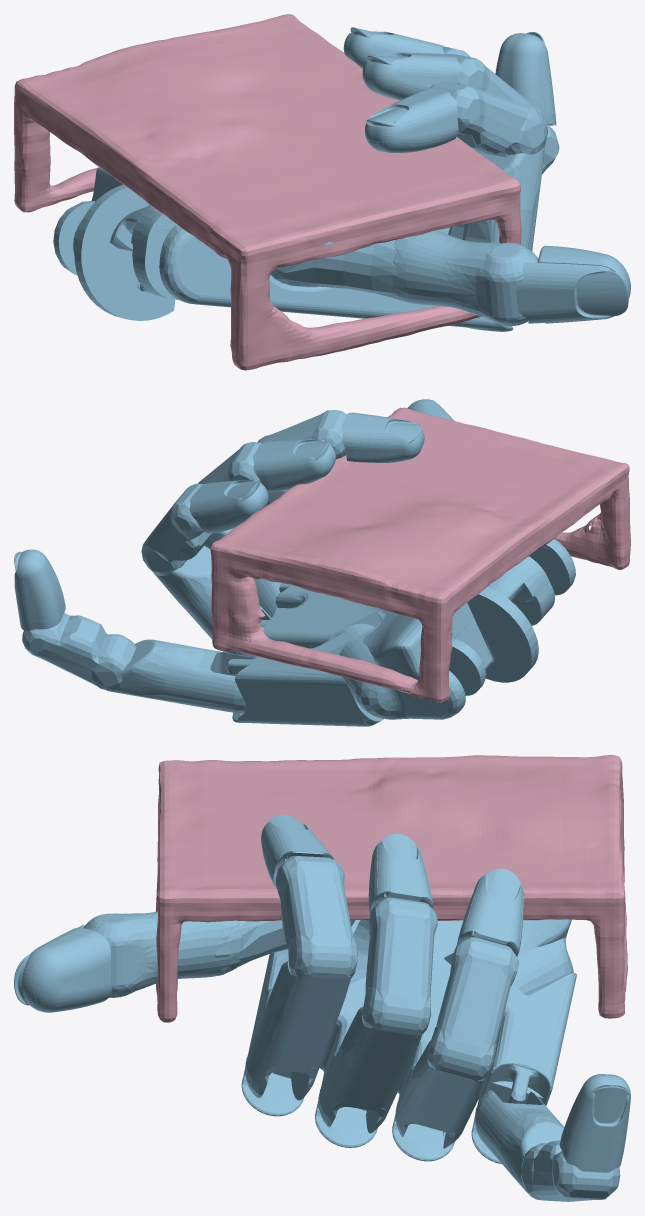
3 views of the same model, one above another, from view 1: azimuth 30°, elevation 25°; view 2: azimuth 150°, elevation 25°; view 3: azimuth 270°, elevation 25° (orthographic). The views are drawn at different scales.
Visible parts, largest first — view 1: world, hand; view 2: hand, world; view 3: hand, world.
Boxes of the visible parts, x1,y1,x2,y2 form: world: [14, 14, 521, 370]; hand: [53, 27, 630, 331]; hand: [14, 399, 575, 726]; world: [210, 407, 630, 702]; hand: [14, 815, 630, 1201]; world: [155, 755, 627, 1022].
Size of the model in its own units: 0.1778 by 0.0937 by 0.1724.
